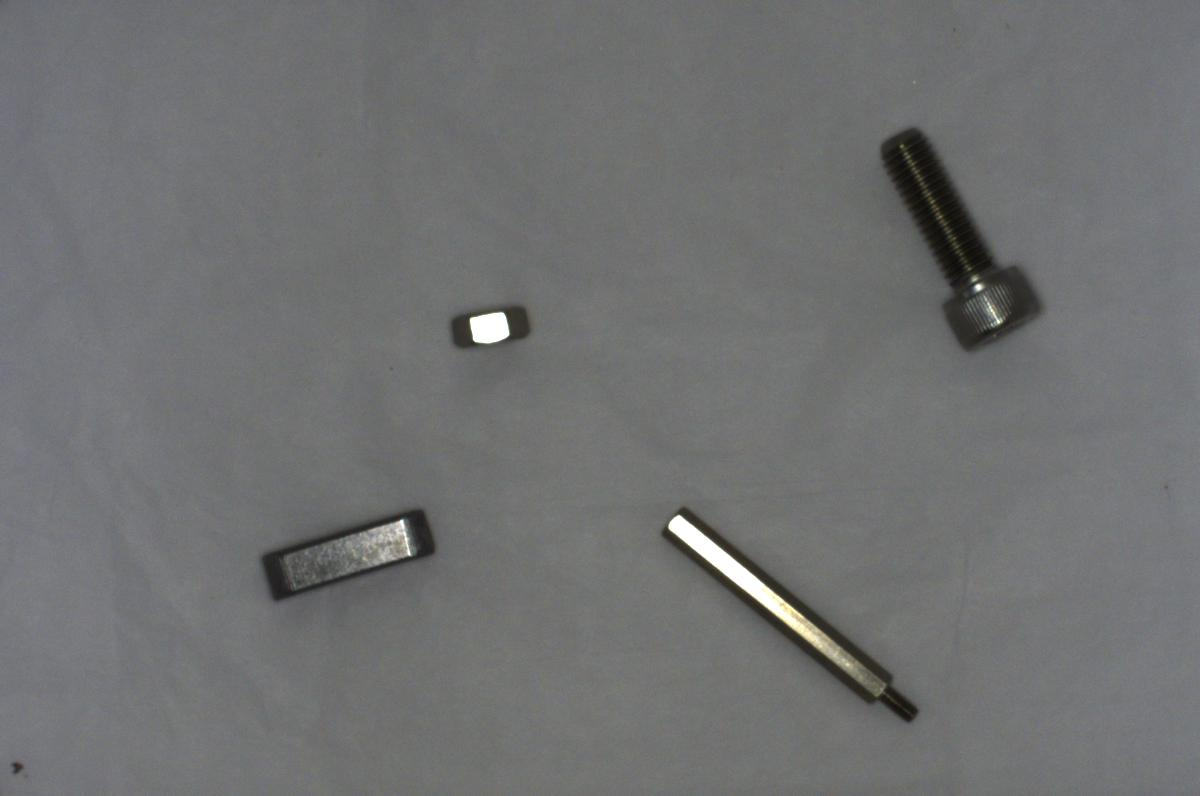Hexagon nut: (447, 294, 537, 348)
Hexagon screw: (872, 116, 1057, 356)
Hexagonal steel column: (655, 505, 927, 729)
Keybar: (252, 508, 441, 608)
